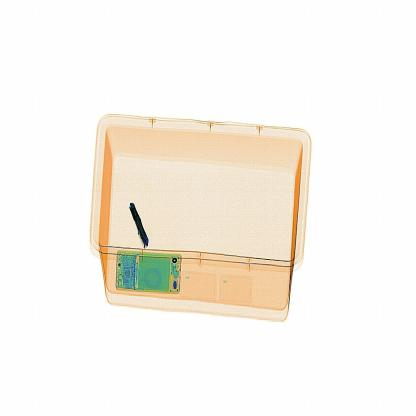knife: (123, 194, 151, 252)
